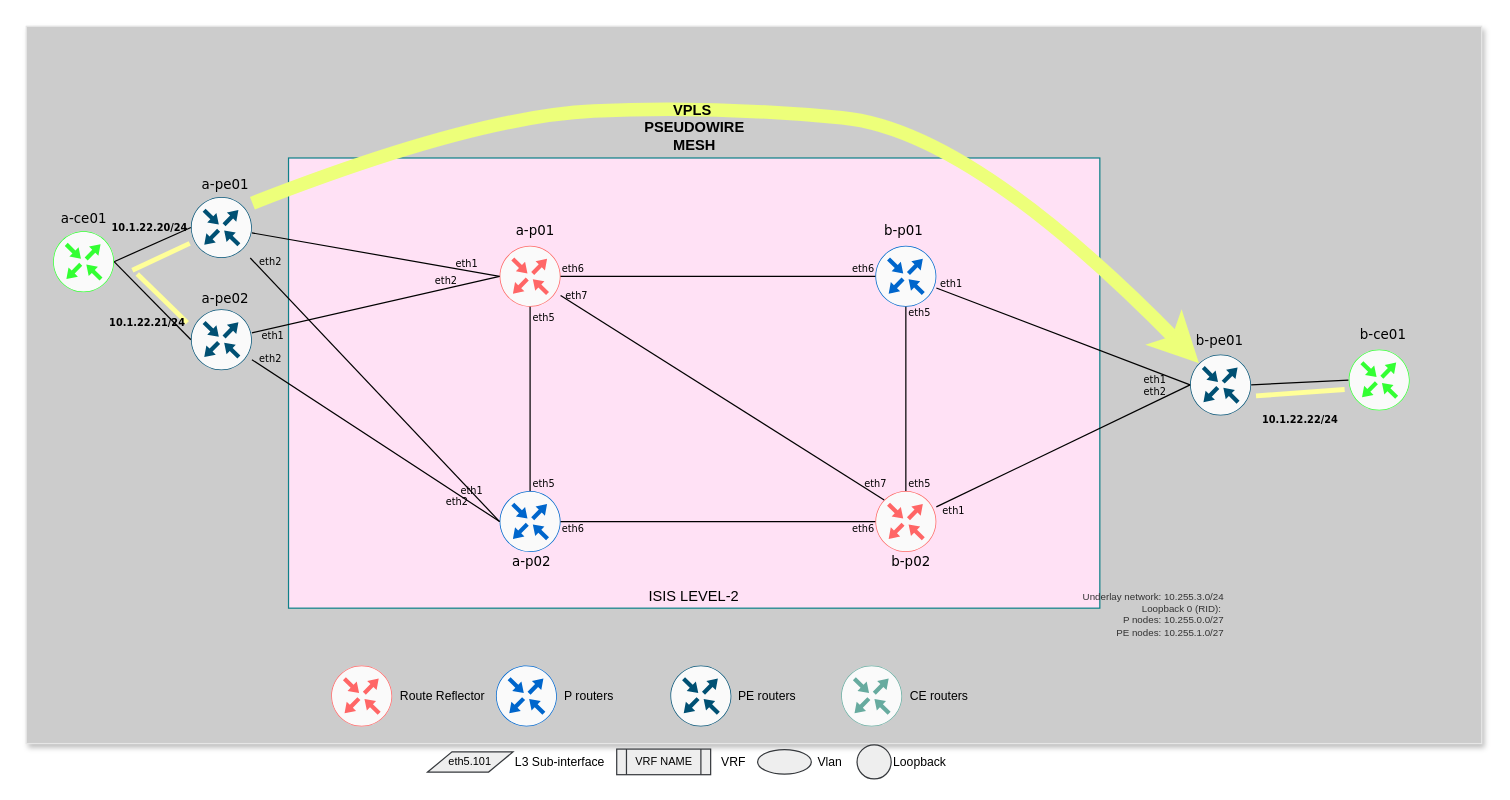
Image size: 1510x800. Some labels were removed from this diagram. The shapes that lost their labels are listed below. From the top down, each one's centre as x and y in pixels, then its label:
At point (783, 761): "VLAN ID".
At point (873, 761): "Lo1018".
